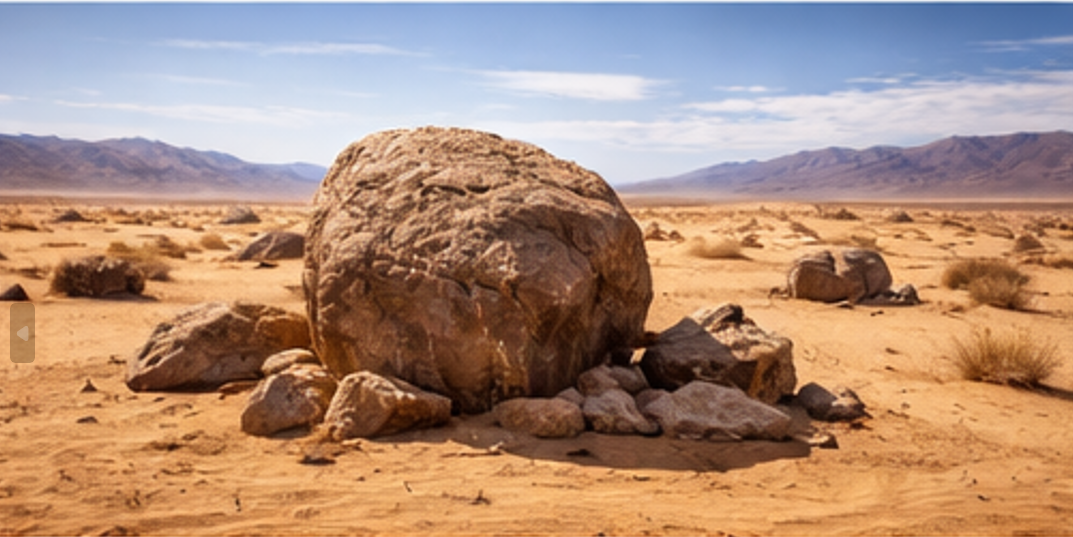rocks: (303, 127, 650, 412), (126, 301, 308, 390), (640, 304, 793, 401), (640, 381, 789, 440), (325, 371, 449, 440), (240, 363, 335, 435), (788, 247, 890, 300), (50, 254, 143, 295), (493, 396, 584, 436), (580, 387, 659, 431), (797, 382, 866, 419), (228, 231, 304, 258), (260, 347, 319, 376), (218, 205, 259, 223), (0, 282, 29, 300), (639, 396, 640, 397)
